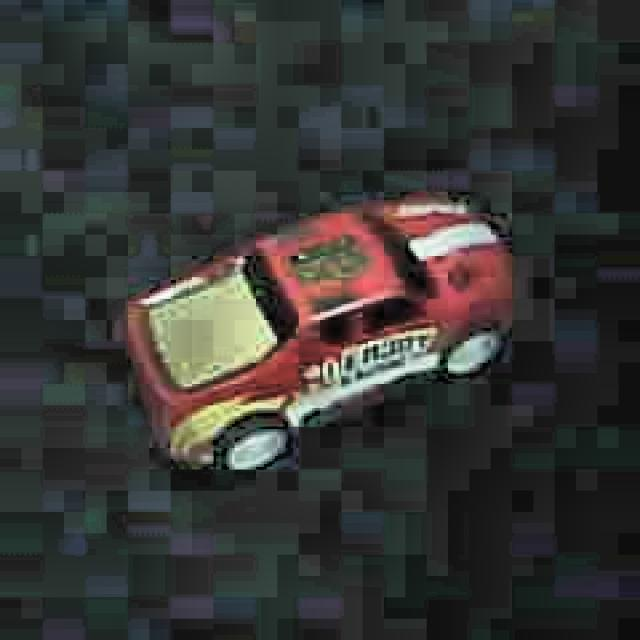car: (114, 187, 521, 484)
